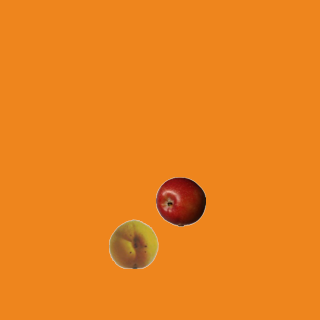Apple Braeburn: (155, 176, 205, 226)
Peach 2: (108, 218, 158, 268)
